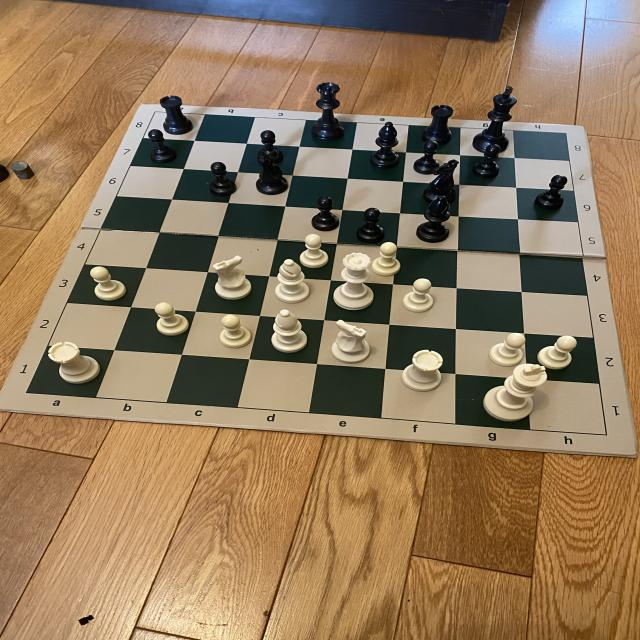Chessboard-Corners: (23, 387, 35, 399), (600, 431, 614, 438), (561, 131, 573, 137), (150, 108, 160, 114)
